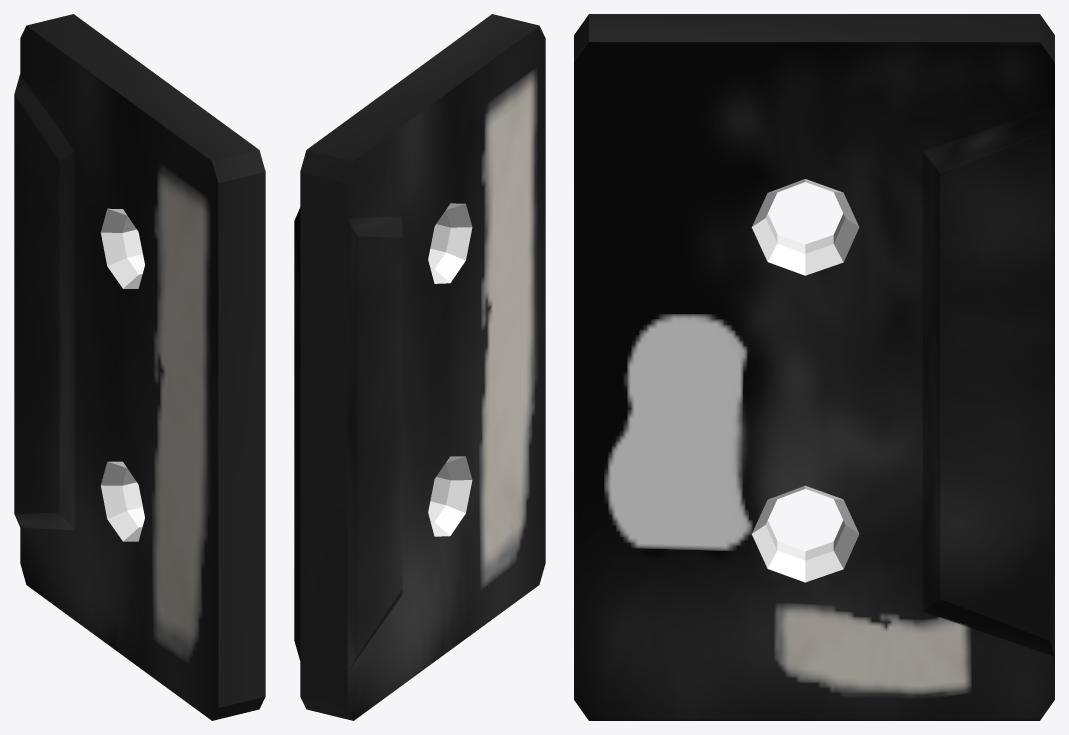
The model's file is Cassete.fbx.
3 views of the same model, side by side, from view 1: azimuth 30°, elevation 25°; view 2: azimuth 150°, elevation 25°; view 3: azimuth 270°, elevation 25° (orthographic). The views are drawn at different scales.
Parts seen in each view (by area): view 1: Cassette; view 2: Cassette; view 3: Cassette.
Boxes of the visible parts, <box> form: Cassette: <box>14,14,265,720</box>; Cassette: <box>294,14,545,720</box>; Cassette: <box>574,14,1054,720</box>.
Bounding box in the file's own units: 73.46 × 621 × 399.
